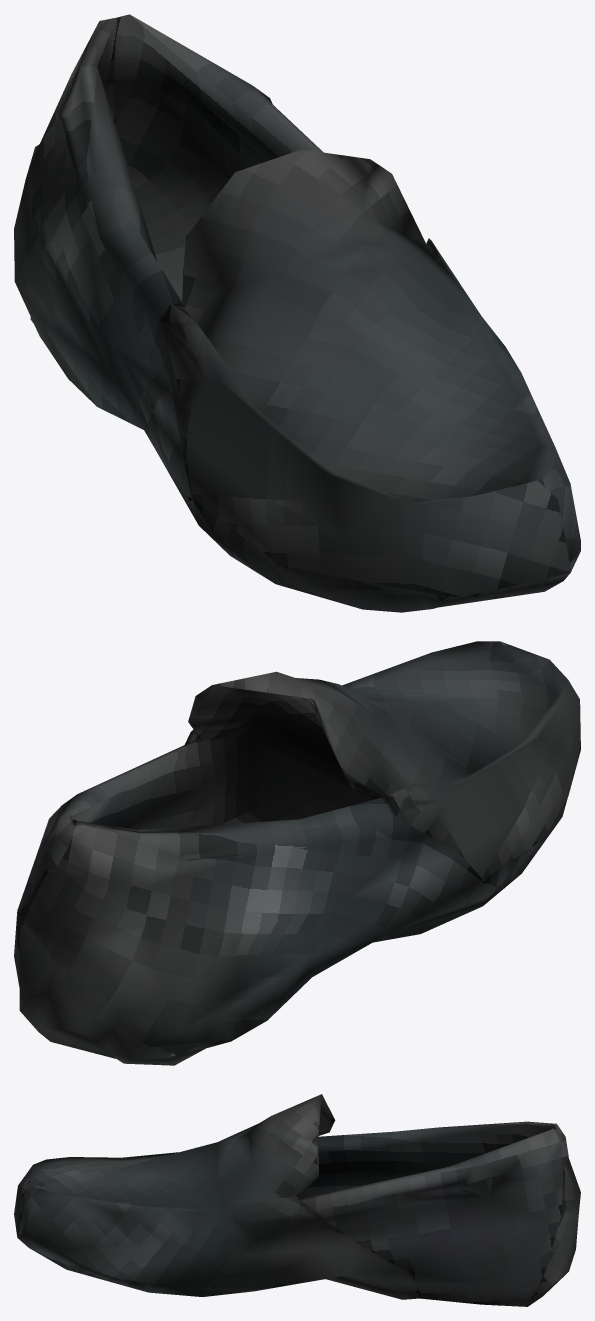
File: Mens_Gold_Cup_ASV_Capetown_Penny_Loafer_in_Black_GkQBKqABeQN-low.glb
3 views of the same model, one above another, from view 1: azimuth 30°, elevation 25°; view 2: azimuth 150°, elevation 25°; view 3: azimuth 270°, elevation 25° (orthographic). The views are drawn at different scales.
Visible parts, largest first — view 1: Mens_Gold_Cup_ASV_Capetown_Penny_Loafer_in_Black_GkQBKqABeQN; view 2: Mens_Gold_Cup_ASV_Capetown_Penny_Loafer_in_Black_GkQBKqABeQN; view 3: Mens_Gold_Cup_ASV_Capetown_Penny_Loafer_in_Black_GkQBKqABeQN.
Part boxes in pixels (left/top/right/bottom): Mens_Gold_Cup_ASV_Capetown_Penny_Loafer_in_Black_GkQBKqABeQN: left=14, top=14, right=580, bottom=612; Mens_Gold_Cup_ASV_Capetown_Penny_Loafer_in_Black_GkQBKqABeQN: left=14, top=641, right=580, bottom=1065; Mens_Gold_Cup_ASV_Capetown_Penny_Loafer_in_Black_GkQBKqABeQN: left=14, top=1094, right=580, bottom=1306.
Size of the model in its own units: 0.1025 by 0.1013 by 0.2893.
1 material, 1 textured.
